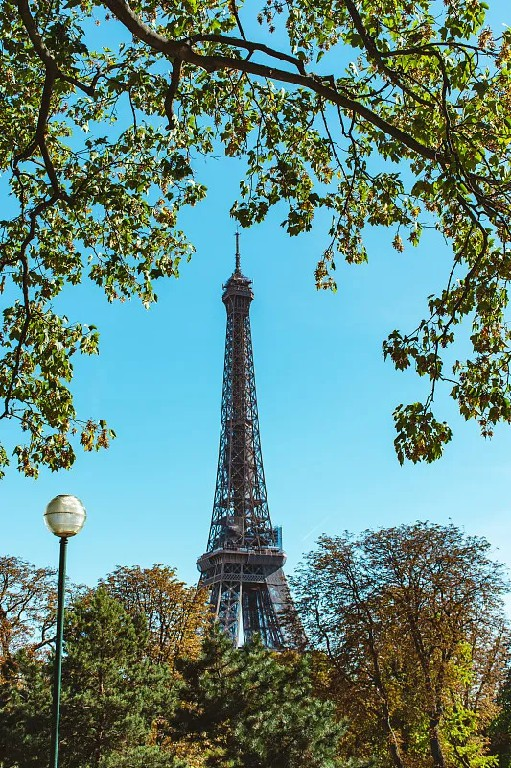Eiffel: (193, 225, 310, 651)
